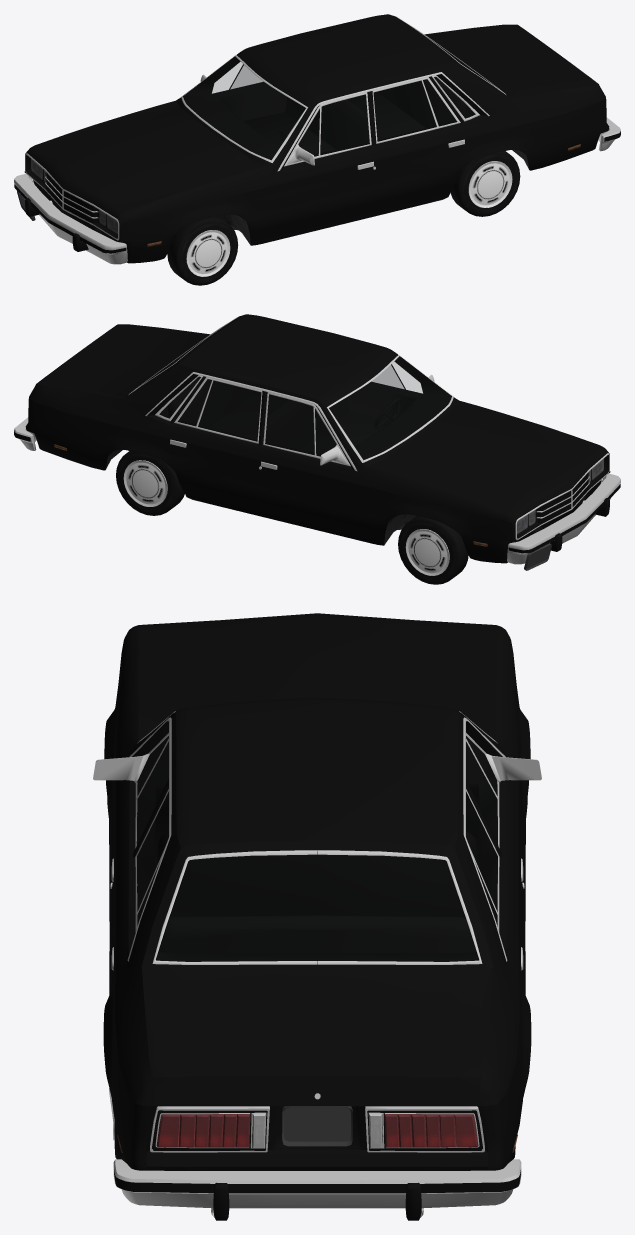
Rendered from fox.glb.
The picture shows the model from 3 angles, top to bottom: view 1: azimuth 30°, elevation 25°; view 2: azimuth 150°, elevation 25°; view 3: azimuth 270°, elevation 25°; orthographic projection. The views are drawn at different scales.
Visible parts, largest first — view 1: body_body_0, glass_glass_0, interior__0, body_chrome_chrome_0, bumpers_chrome_0, wheel_01_tires_0, wheel_002_tires_0, wheel_01_rims_0, wheel_002_rims_0, bumpers_body_0, lights_lights_0, bottom_ucb_bottom3_bump_0; view 2: body_body_0, glass_glass_0, interior__0, body_chrome_chrome_0, bumpers_chrome_0, wheel_003_tires_0, wheel_004_tires_0, wheel_004_rims_0, wheel_003_rims_0, bumpers_body_0, lights_lights_0, bottom_ucb_bottom3_bump_0 (+1 smaller); view 3: body_body_0, interior__0, glass_glass_0, body_chrome_chrome_0, bumpers_chrome_0, lights_lights_0, bumpers_body_0, body_lights_0.
Boxes of the visible parts, x1=… form: body_body_0: x1=24, y1=14, x2=609, y2=263; glass_glass_0: x1=183, y1=41, x2=489, y2=159; interior__0: x1=183, y1=38, x2=497, y2=160; body_chrome_chrome_0: x1=25, y1=16, x2=505, y2=252; bumpers_chrome_0: x1=14, y1=117, x2=620, y2=264; wheel_01_tires_0: x1=167, y1=216, x2=238, y2=285; wheel_002_tires_0: x1=450, y1=151, x2=520, y2=216; wheel_01_rims_0: x1=186, y1=230, x2=230, y2=276; wheel_002_rims_0: x1=468, y1=161, x2=512, y2=207; bumpers_body_0: x1=14, y1=131, x2=620, y2=253; lights_lights_0: x1=31, y1=144, x2=580, y2=246; bottom_ucb_bottom3_bump_0: x1=218, y1=149, x2=529, y2=244; body_body_0: x1=25, y1=314, x2=610, y2=563; glass_glass_0: x1=148, y1=341, x2=451, y2=459; interior__0: x1=138, y1=338, x2=451, y2=460; body_chrome_chrome_0: x1=128, y1=316, x2=609, y2=552; bumpers_chrome_0: x1=14, y1=417, x2=620, y2=564; wheel_003_tires_0: x1=398, y1=516, x2=468, y2=584; wheel_004_tires_0: x1=116, y1=451, x2=184, y2=515; wheel_004_rims_0: x1=123, y1=460, x2=167, y2=506; wheel_003_rims_0: x1=405, y1=529, x2=449, y2=575; bumpers_body_0: x1=14, y1=431, x2=620, y2=553; lights_lights_0: x1=54, y1=444, x2=603, y2=546; bottom_ucb_bottom3_bump_0: x1=105, y1=449, x2=416, y2=544; body_body_0: x1=103, y1=613, x2=531, y2=1170; interior__0: x1=136, y1=736, x2=497, y2=964; glass_glass_0: x1=137, y1=736, x2=497, y2=961; body_chrome_chrome_0: x1=93, y1=711, x2=541, y2=1217; bumpers_chrome_0: x1=113, y1=1159, x2=521, y2=1208; lights_lights_0: x1=117, y1=1113, x2=517, y2=1152; bumpers_body_0: x1=114, y1=1170, x2=520, y2=1220; body_lights_0: x1=282, y1=1106, x2=352, y2=1146.
Size of the model in its own units: 197 by 53.19 by 72.09.
8 materials, 4 textured.
